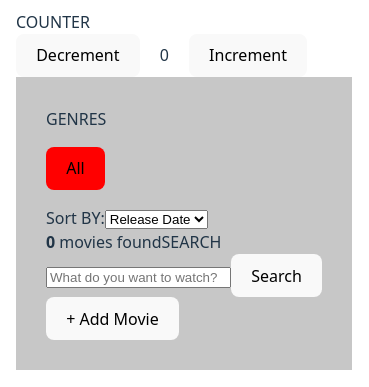
Test: Movie App E2E Tests › should increment and decrement counter
Expected: the 1st text "0" is shown, left=160, top=44, right=169, bottom=66
Note: Click increment
Click the button "Increment": (248, 56) left=189, top=34, right=307, bottom=77
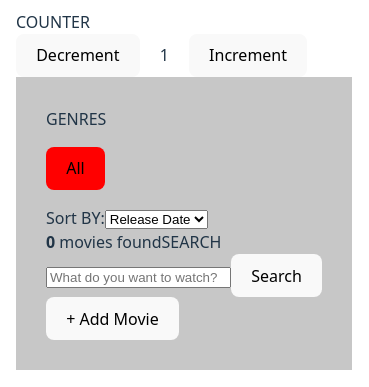
Now the text "1" is shown, box left=160, top=44, right=169, bottom=66
Note: Click increment again
Click the button "Increment": (248, 56) left=189, top=34, right=307, bottom=77
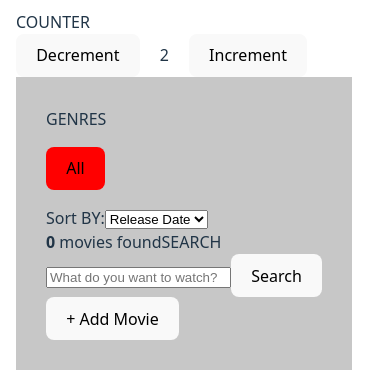
Now the text "2" is shown, box left=160, top=44, right=169, bottom=66
Note: Click decrement
Click the button "Decrement": (78, 56) left=16, top=34, right=140, bottom=77
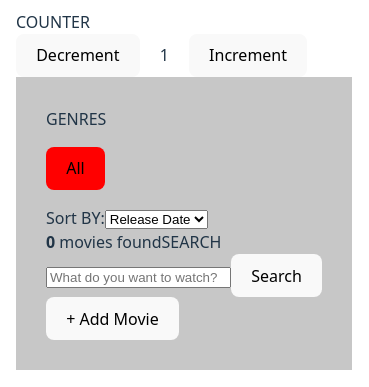
Now the text "1" is shown, box left=160, top=44, right=169, bottom=66
